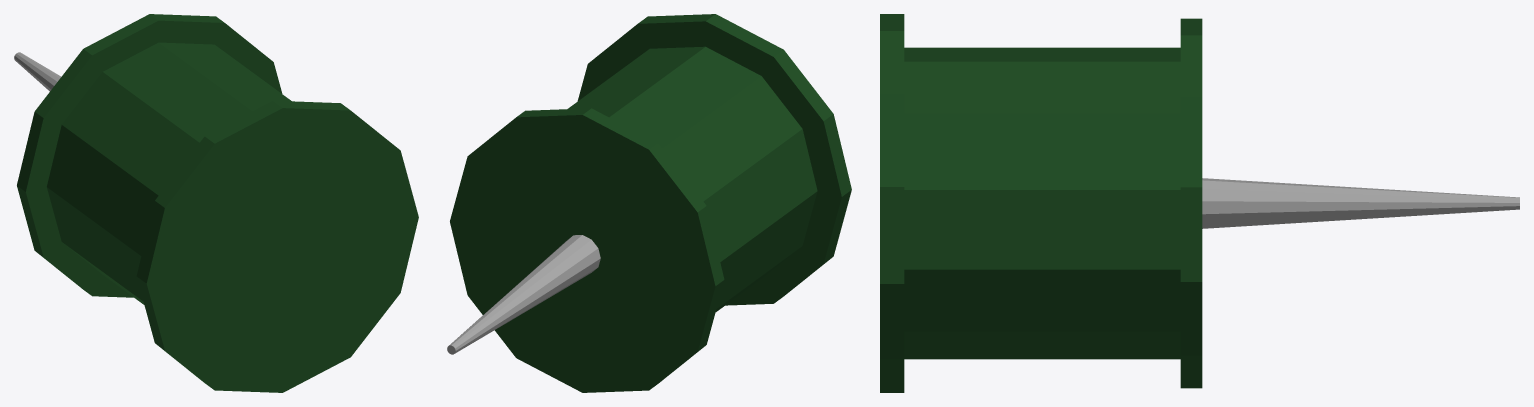
The model's file is PinchoPizarra.fbx.
3 views of the same model, side by side, from view 1: azimuth 30°, elevation 25°; view 2: azimuth 150°, elevation 25°; view 3: azimuth 270°, elevation 25° (orthographic). The views are drawn at different scales.
Visible parts, largest first — view 1: PinchoPizarra; view 2: PinchoPizarra; view 3: PinchoPizarra.
Part boxes in pixels (x1,y1,x2,y2): PinchoPizarra: (14,14,418,392); PinchoPizarra: (447,14,851,392); PinchoPizarra: (880,14,1519,392).
Size of the model in its own units: 0.0168 by 0.0168 by 0.0283.
